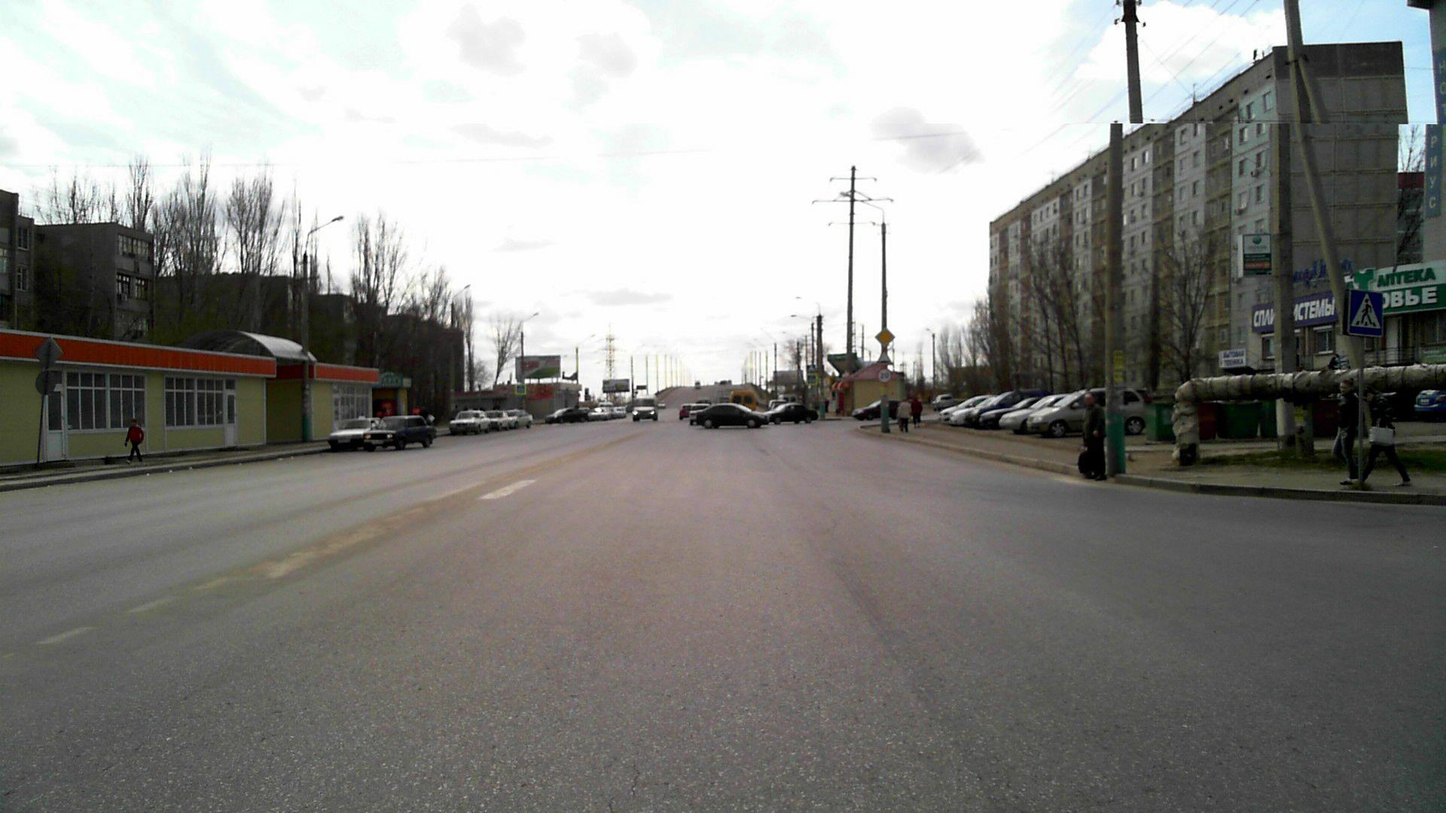road_sign: (873, 325, 897, 349), (875, 349, 895, 364), (876, 367, 893, 384)
